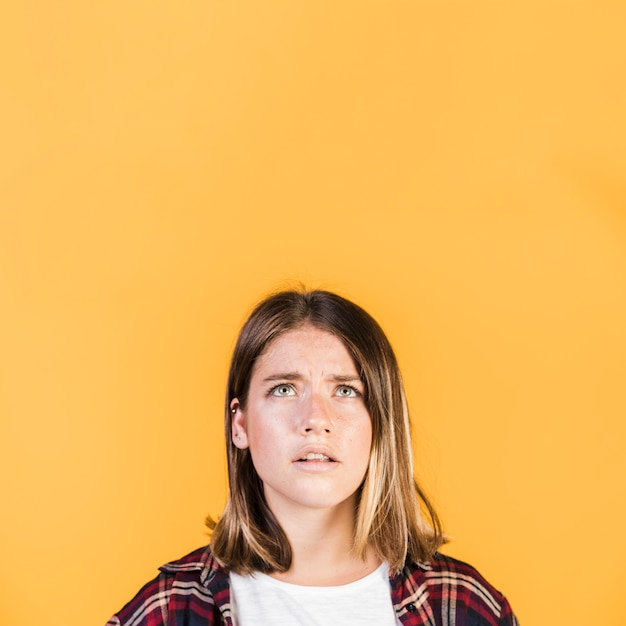teen: (222, 276, 408, 524)
